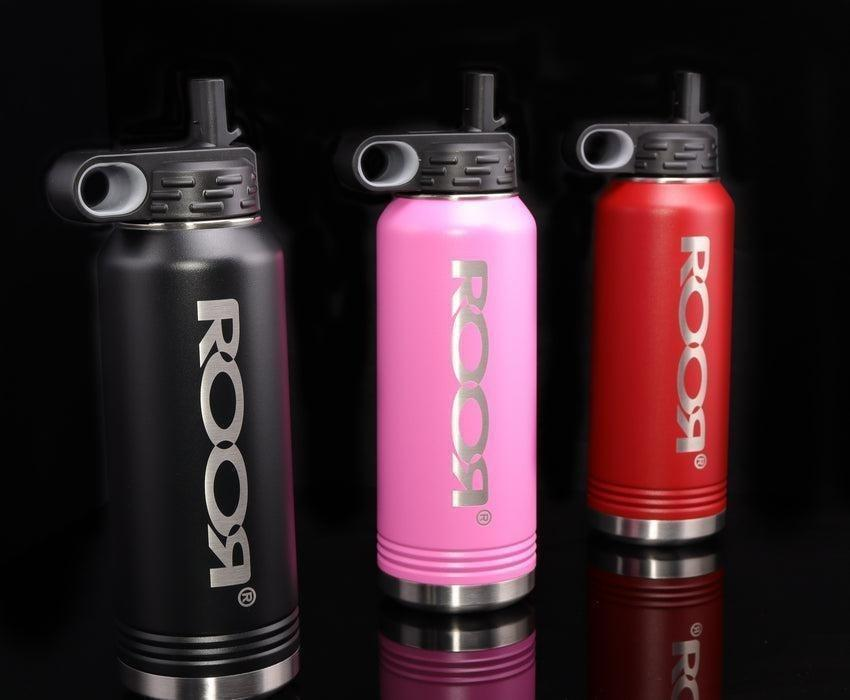gym bottle: (47, 80, 304, 696), (351, 72, 543, 607), (581, 73, 739, 543)
